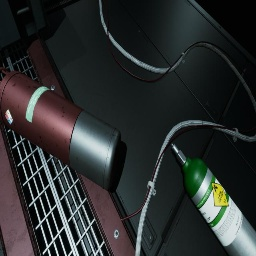0: (171, 143, 256, 256)
NitrogenTank ,: (0, 67, 121, 191)
